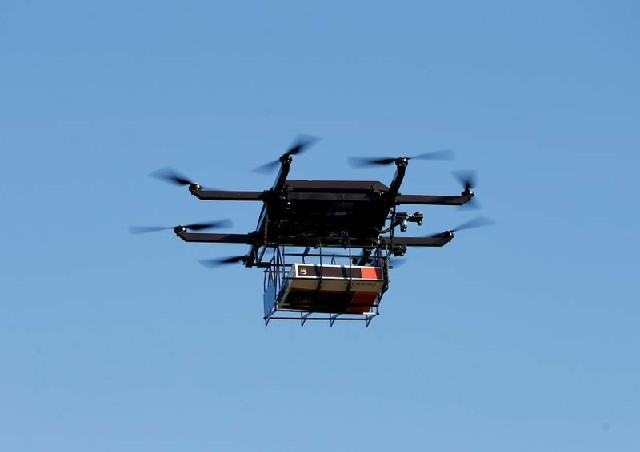maybay_khongnguoilai: (131, 127, 474, 312)
